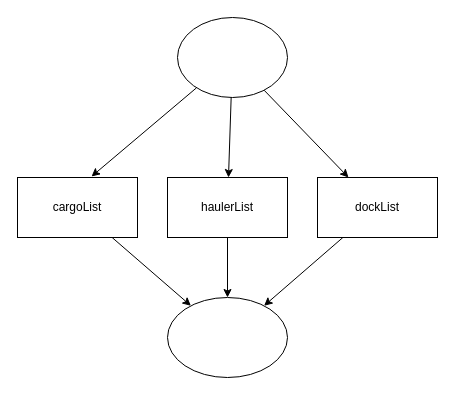
The diagram is 455 pixels wide and 395 high, and some of its shapes have lost their labels. Here are the shapes that lost their labels. From the top down, the centre of each, then its label:
At (232,57): "Database".
At (227,337): "main".
